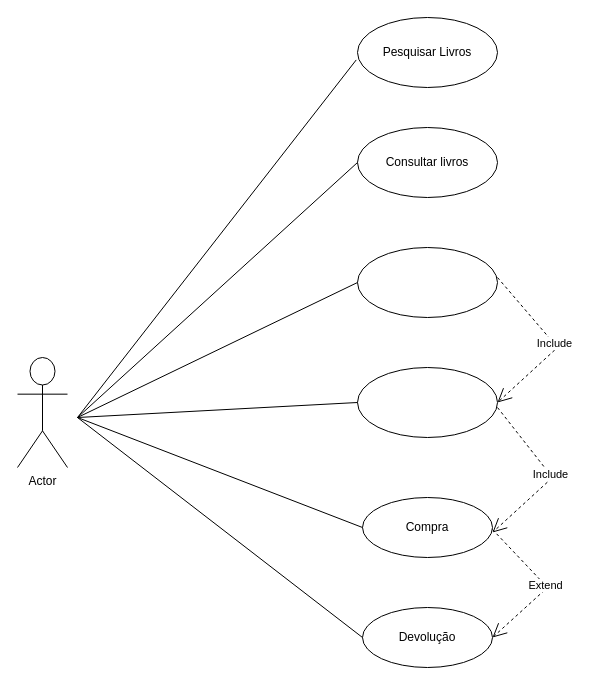
The diagram is 589 pixels wide and 685 high, and some of its shapes have lost their labels. The centre of each missing label's shape, as x and y in pixels:
"Gestão do carrinho de compras" belongs at [427,402].
"Login" belongs at [427,282].
